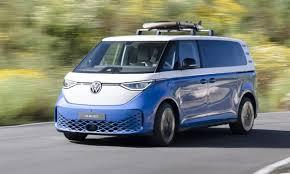volkswagen: (84, 78, 105, 96)
